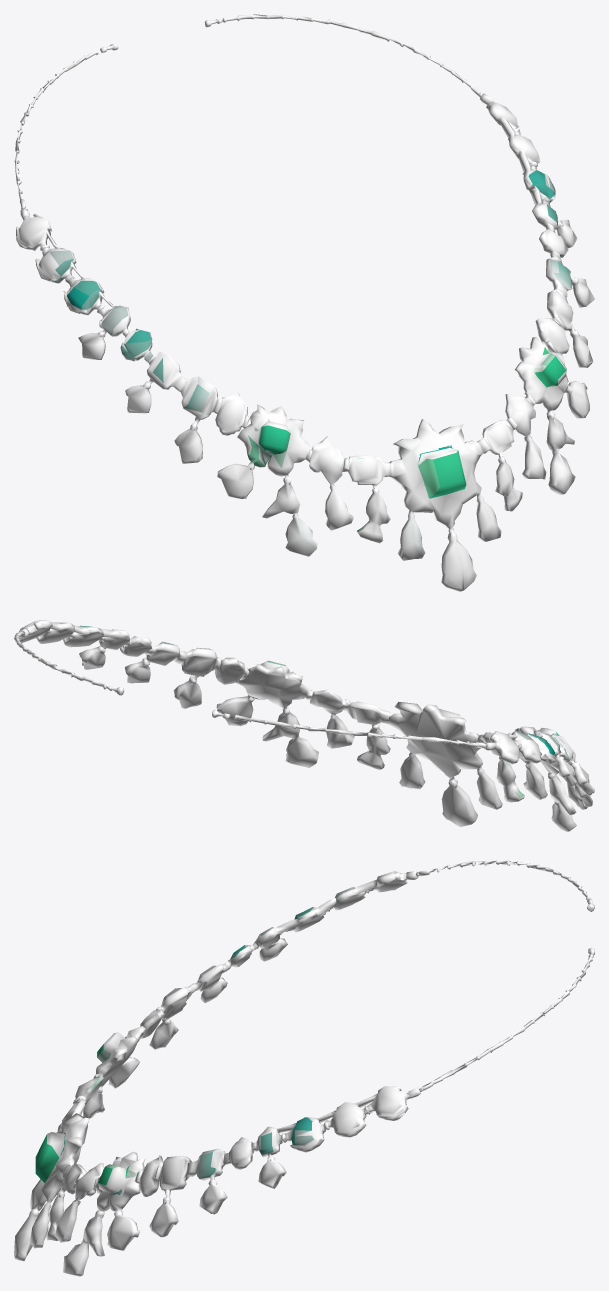
3 views of the same model, one above another, from view 1: azimuth 30°, elevation 25°; view 2: azimuth 150°, elevation 25°; view 3: azimuth 270°, elevation 25° (orthographic). The views are drawn at different scales.
Visible parts, largest first — view 1: tripo_node_0aa8907f-4b92-4f5c-99da-819f80723154; view 2: tripo_node_0aa8907f-4b92-4f5c-99da-819f80723154; view 3: tripo_node_0aa8907f-4b92-4f5c-99da-819f80723154.
Boxes of the visible parts, box(x1,y1,x2,y2) form: tripo_node_0aa8907f-4b92-4f5c-99da-819f80723154: box(14, 14, 594, 591); tripo_node_0aa8907f-4b92-4f5c-99da-819f80723154: box(14, 620, 594, 831); tripo_node_0aa8907f-4b92-4f5c-99da-819f80723154: box(14, 860, 594, 1276).
Bounding box in the file's own units: 0.9551 × 0.6309 × 0.998.
1 material, 1 textured.
